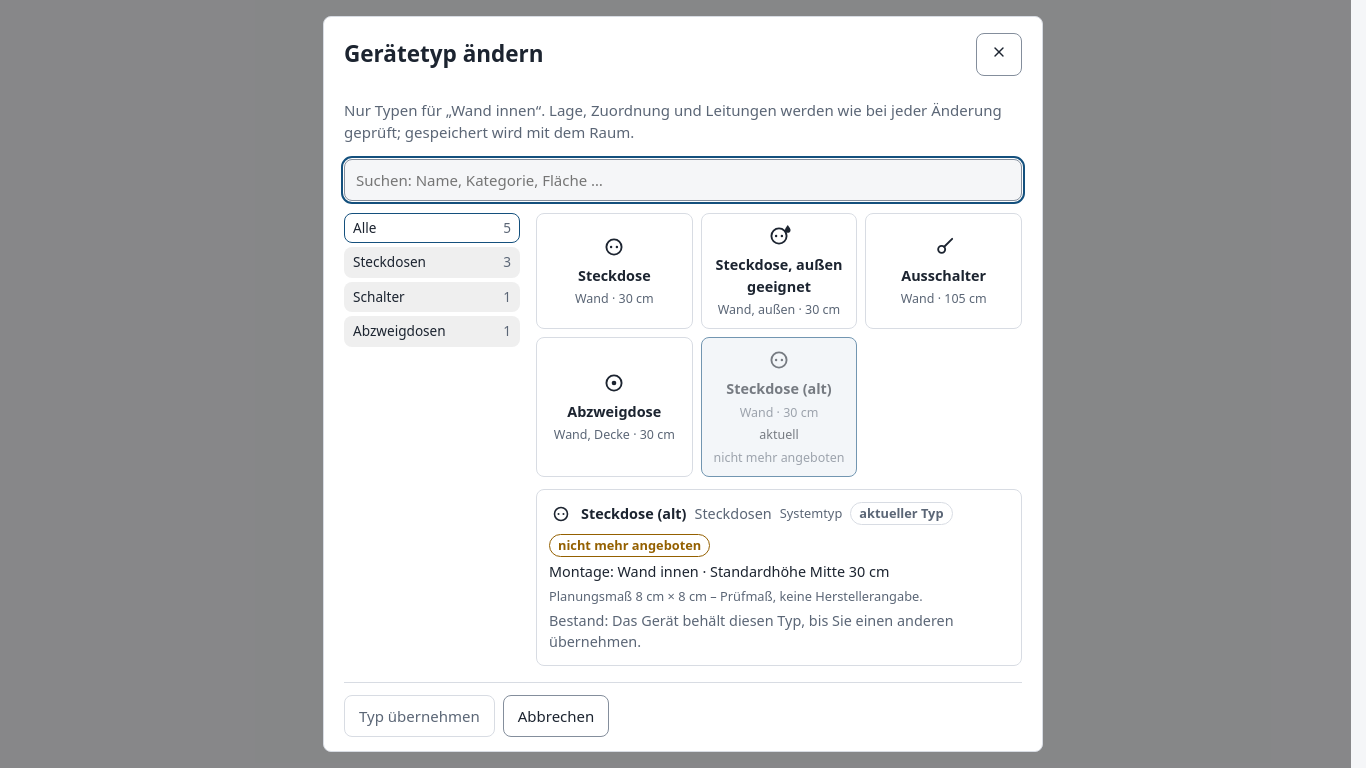
Test: Gerätekatalog (K1) › Typmodus: nur Typen der Fläche, deaktivierter Bestandstyp sichtbar und nicht neu wählbar, Grund des Aufrufers bleibt sichtbar
Check: the heading "Gerätetyp ändern" is shown, box [344,37,544,71]
Check: the radio button with test id "katalog-kachel-socket_alt" shows "nicht mehr angeboten", box [701,337,857,477]
Click the radio button with test id "katalog-kachel-switch_single": (944,271) [865,213,1022,329]
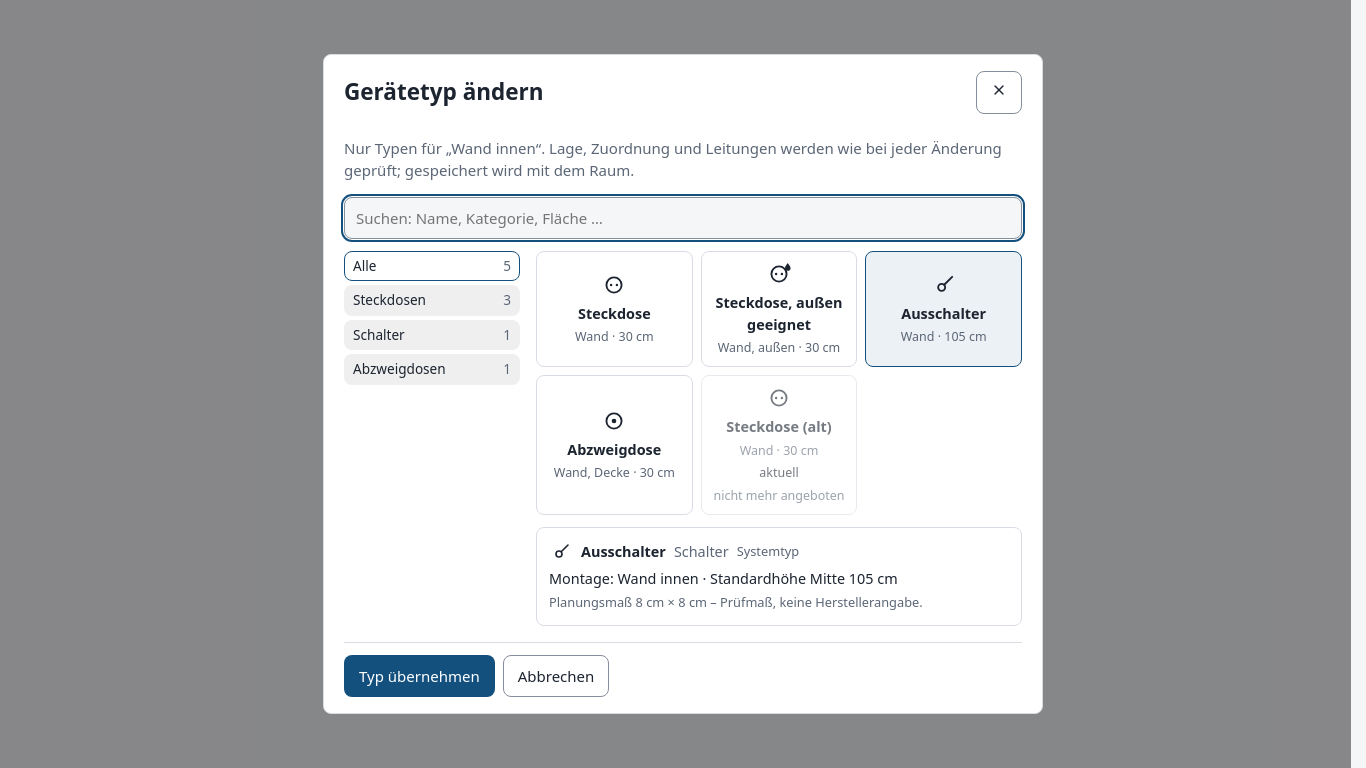
Click the button "Typ übernehmen": (419,676) [344,654,495,697]
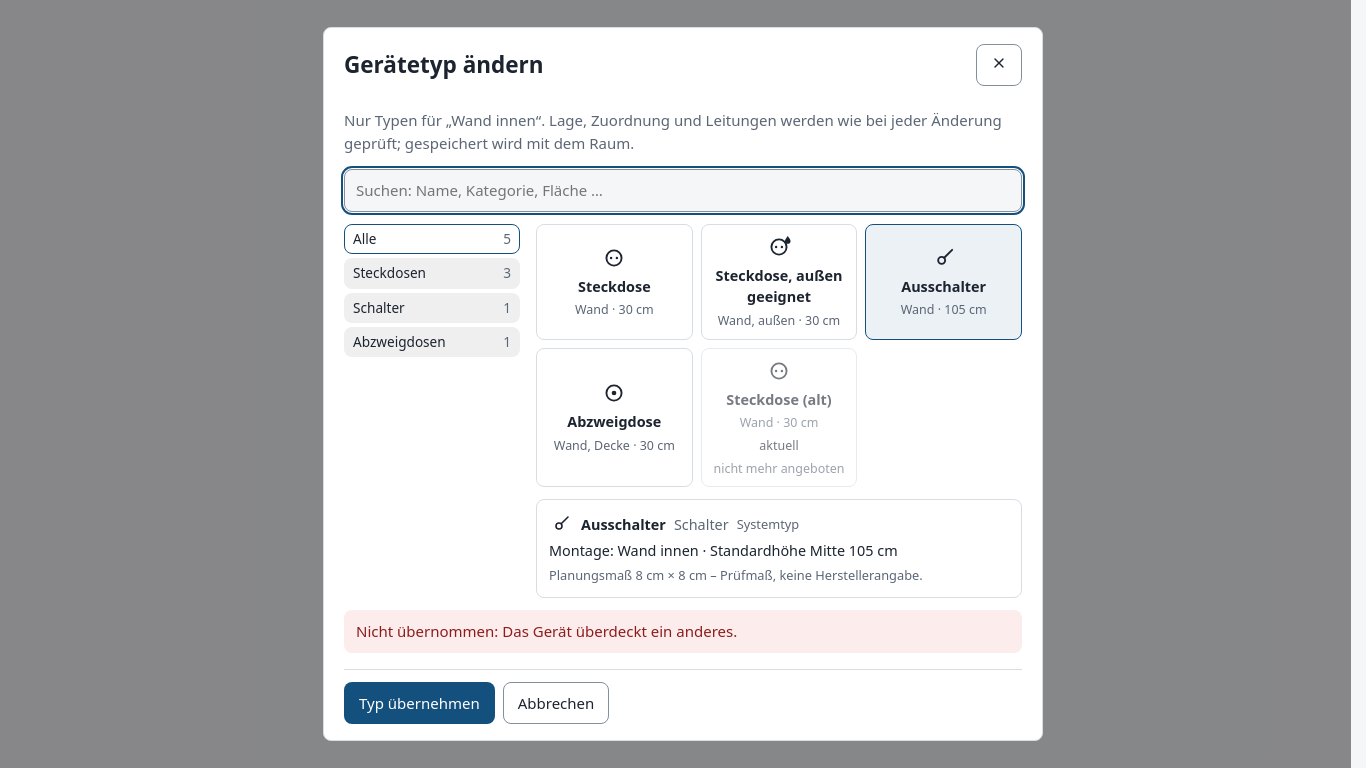
Check: the message reads "Nicht übernommen: Das Gerät überdeckt ein anderes.", box [344,610,1022,653]
